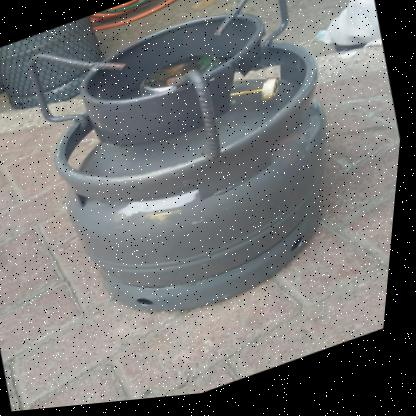gas-tank: (0, 0, 410, 391)
